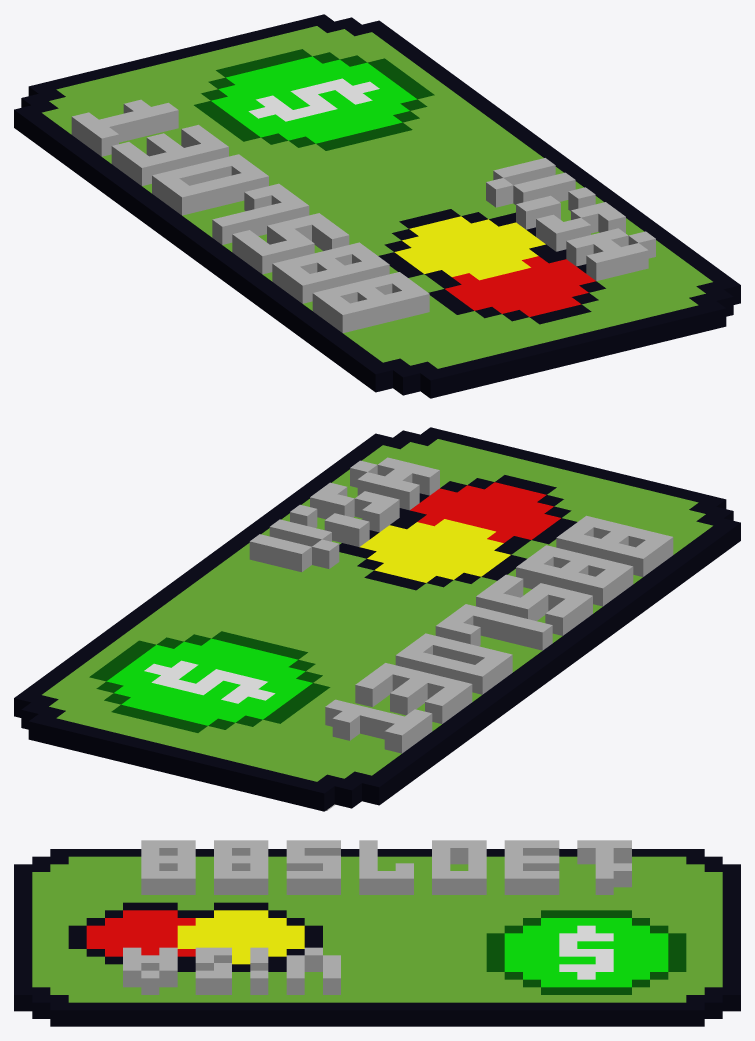
Rendered from Card.obj.
3 views of the same model, one above another, from view 1: azimuth 30°, elevation 25°; view 2: azimuth 150°, elevation 25°; view 3: azimuth 270°, elevation 25° (orthographic). The views are drawn at different scales.
Bounding box in the file's own units: 2.1 × 0.3 × 4.
1 material, 1 textured.
